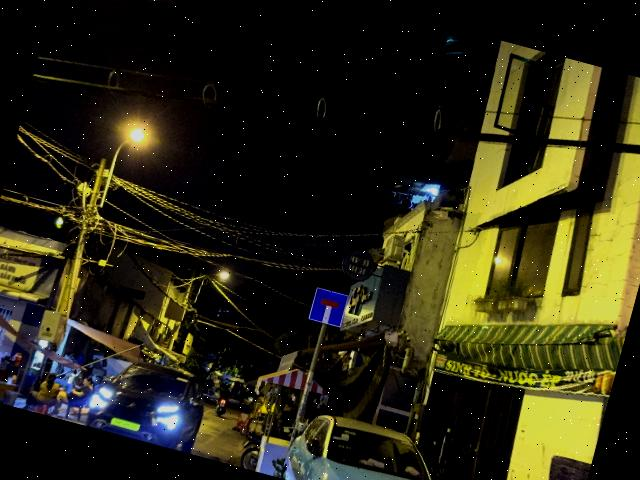duong-cut: (307, 286, 348, 328)
